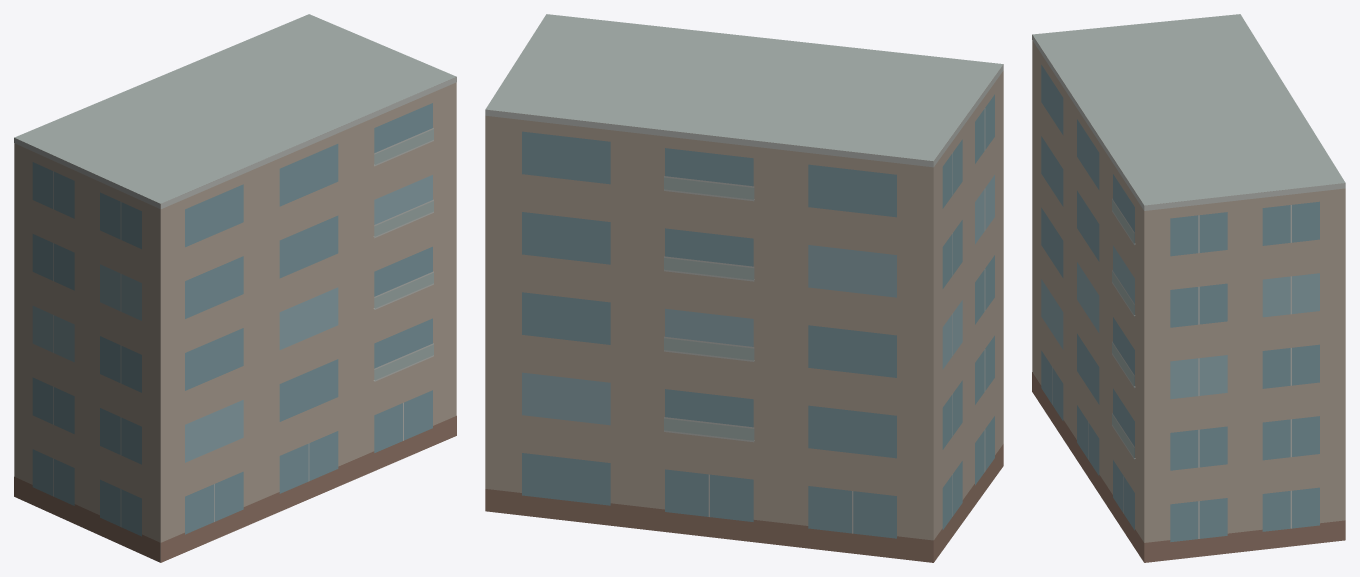
The model's file is survey-upis-32651262.glb.
3 renders of one model, left to right at view 1: azimuth 30°, elevation 25°; view 2: azimuth 150°, elevation 25°; view 3: azimuth 270°, elevation 25°, orthographic. The views are drawn at different scales.
Parts seen in each view (by area): view 1: survey-upis-32651262.tmp; view 2: survey-upis-32651262.tmp; view 3: survey-upis-32651262.tmp.
Part boxes in pixels (left/top/right/bottom): survey-upis-32651262.tmp: left=14, top=14, right=456, bottom=562; survey-upis-32651262.tmp: left=485, top=14, right=1003, bottom=562; survey-upis-32651262.tmp: left=1032, top=14, right=1345, bottom=562.
Bounding box in the file's own units: 18.29 × 15.9 × 12.65.
